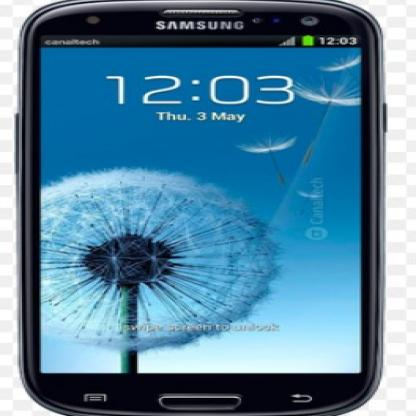SMARTPHONE: (19, 0, 385, 416)
